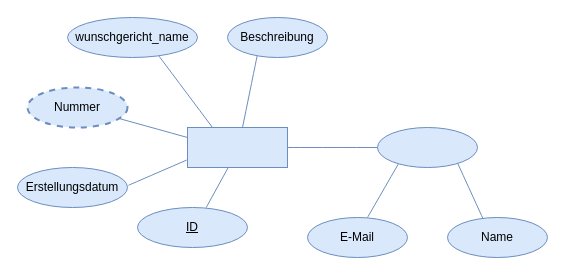
The diagram is 565 pixels wide and 275 high, and some of its shapes have lost their labels. The box of each missing label's shape, as (x1, y1, x2, y2) in pixels:
Ersteller: (376, 126, 478, 168)
Wunschgericht: (186, 126, 288, 168)
